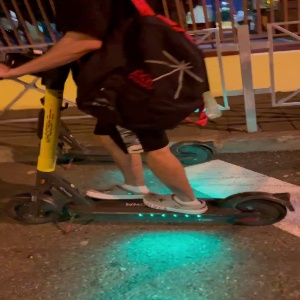human on a scooter: (1, 1, 296, 233)
